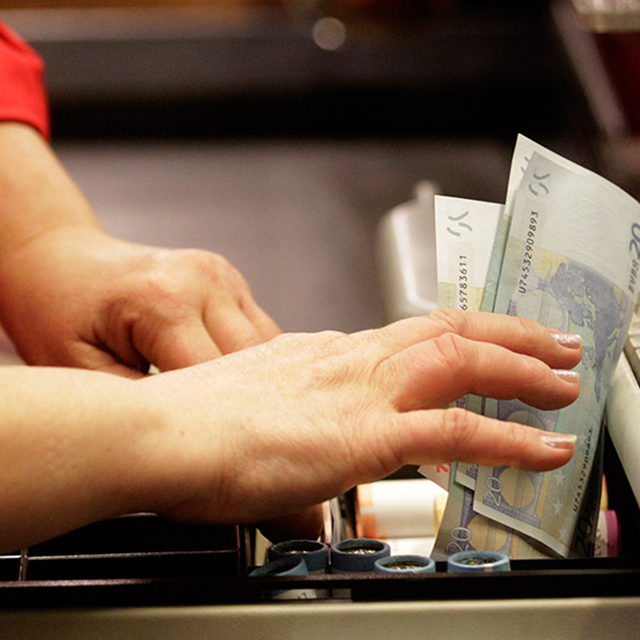banknotes: (430, 133, 635, 556)
